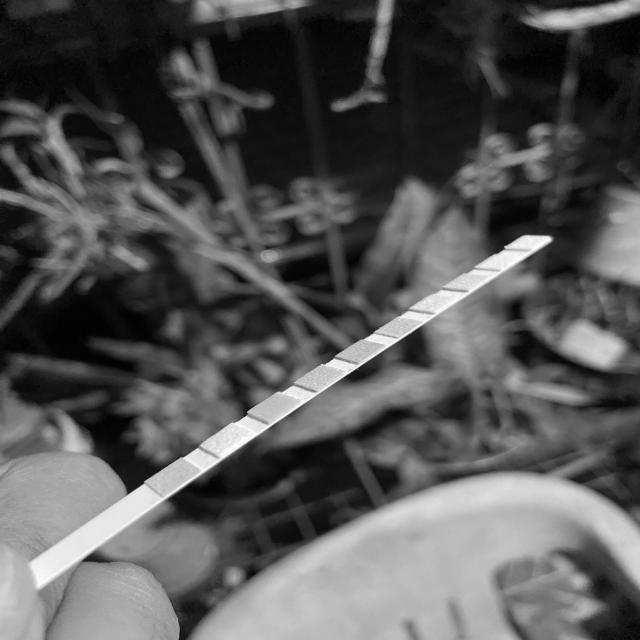Bilirubin: (216, 433, 242, 447)
Blood: (349, 344, 377, 354)
Glucose: (162, 468, 190, 483)
Ketone: (262, 401, 289, 412)
Leukocytes: (518, 238, 538, 246)
Nitrite: (491, 256, 511, 266)
Protein: (421, 298, 448, 308)
SpGravity: (307, 373, 334, 383)
Urobilinogen: (457, 276, 478, 287)
background: (0, 0, 640, 640)
pH: (390, 321, 412, 332)
strip: (30, 238, 552, 590)
